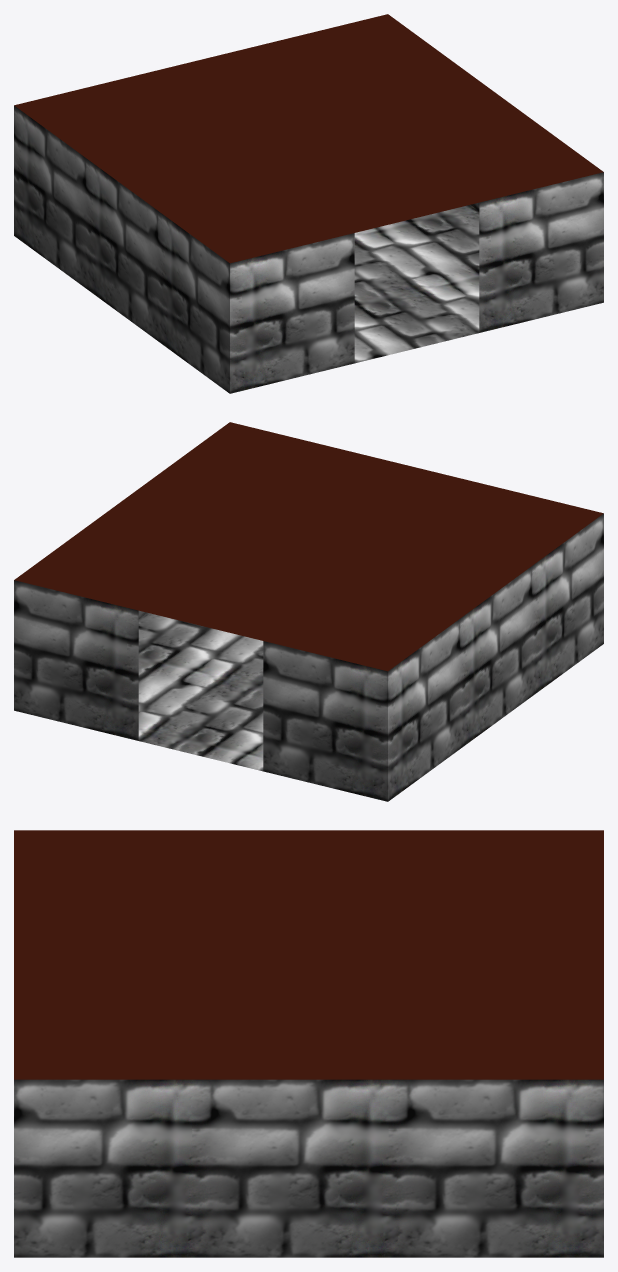
File: castle_room_I1.fbx
3 views of the same model, one above another, from view 1: azimuth 30°, elevation 25°; view 2: azimuth 150°, elevation 25°; view 3: azimuth 270°, elevation 25° (orthographic). The views are drawn at different scales.
Parts seen in each view (by area): view 1: Plane.091; view 2: Plane.091; view 3: Plane.091.
Part boxes in pixels (x1,y1,x2,y2): Plane.091: [14, 14, 603, 393]; Plane.091: [14, 422, 603, 801]; Plane.091: [14, 830, 603, 1257].
Size of the model in its own units: 1200 by 400 by 1200.
Materials: 2 (1 with a texture image).
